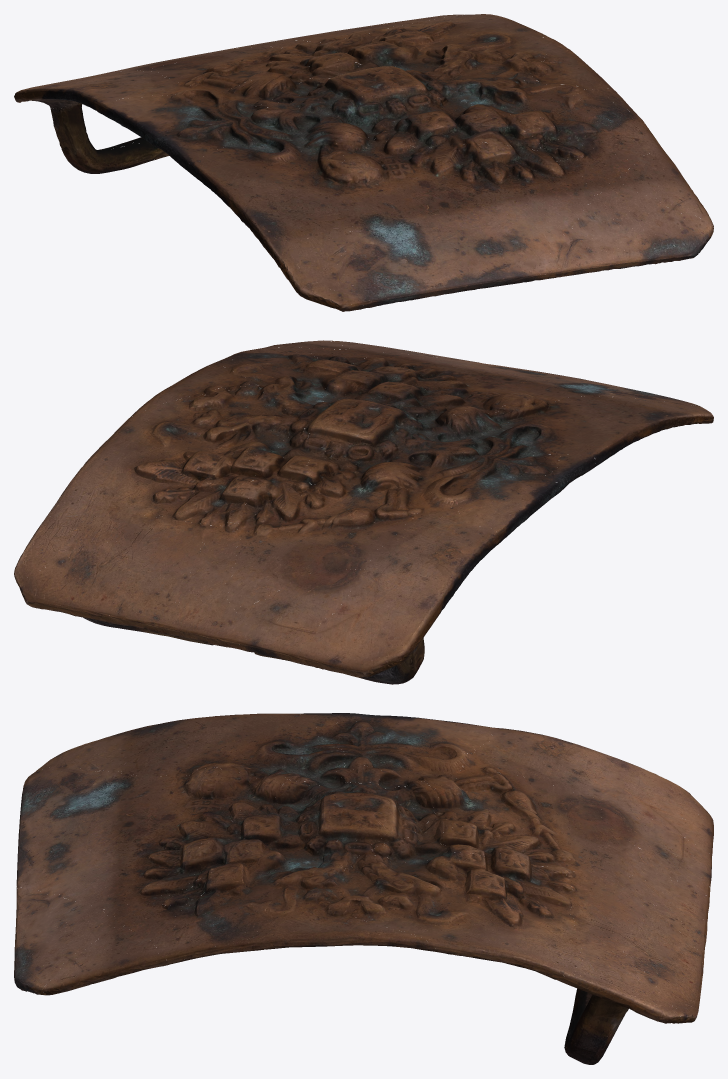
3 views of the same model, one above another, from view 1: azimuth 30°, elevation 25°; view 2: azimuth 150°, elevation 25°; view 3: azimuth 270°, elevation 25° (orthographic). The views are drawn at different scales.
Visible parts, largest first — view 1: Mesh_0, Mesh_1; view 2: Mesh_0, Mesh_1; view 3: Mesh_0, Mesh_1.
Part boxes in pixels (box(x1,y1,x2,y2)): Mesh_0: box(14, 14, 713, 311); Mesh_1: box(55, 14, 713, 278); Mesh_0: box(19, 340, 713, 684); Mesh_1: box(14, 340, 561, 677); Mesh_0: box(16, 713, 711, 1023); Mesh_1: box(14, 715, 713, 1064).
Size of the model in its own units: 1.11 by 0.4214 by 1.52.
2 materials, 2 textured.
